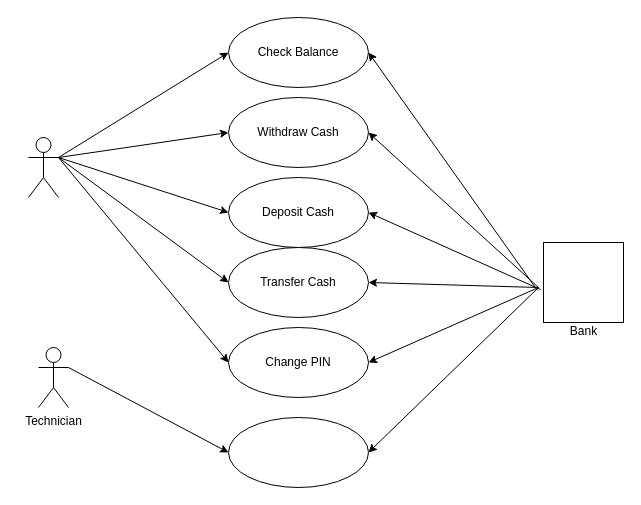
Some shapes in this 641 by 505 pixel diagram are drawn without their labels. Each missing label, with the box of its shape:
Customer: (28, 136, 58, 198)
Maintainence mode: (228, 416, 368, 488)
